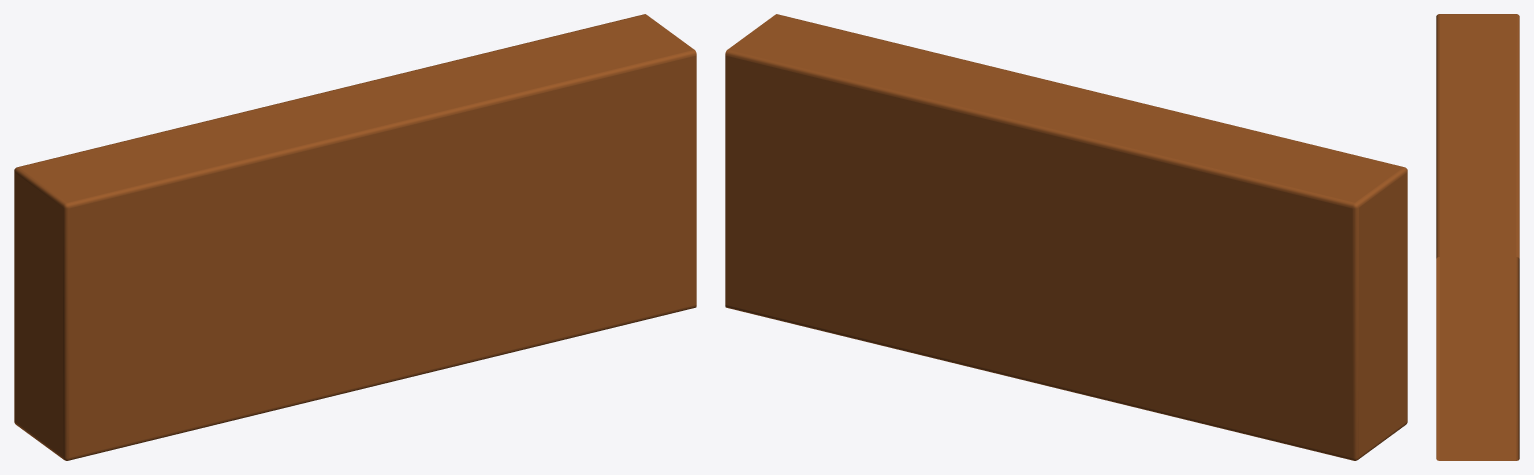
File: frontbalken_start.FBX
The picture shows the model from 3 angles, left to right: view 1: azimuth 30°, elevation 25°; view 2: azimuth 150°, elevation 25°; view 3: azimuth 270°, elevation 25°; orthographic projection. The views are drawn at different scales.
Visible parts, largest first — view 1: frontbalken_start; view 2: frontbalken_start; view 3: frontbalken_start.
Boxes of the visible parts, x1,y1,x2,y2 form: frontbalken_start: [14, 14, 696, 460]; frontbalken_start: [725, 14, 1407, 460]; frontbalken_start: [1436, 14, 1519, 460].
Bounding box in the file's own units: 7.95 × 3.1 × 1.15.
